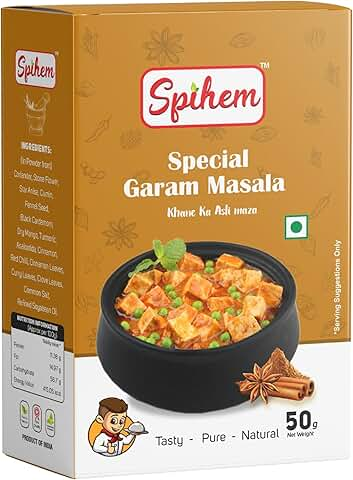Garamasala: (2, 4, 353, 478)
